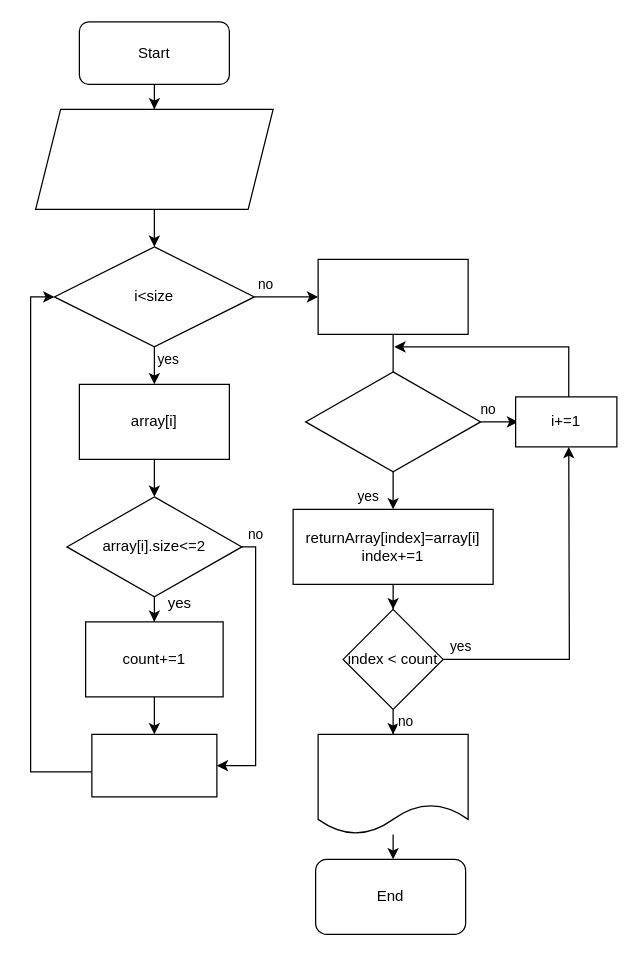
Some shapes in this 639 by 956 pixel diagram are drawn without their labels. The box of each missing label's shape, as (x1, y1, x2, y2) in pixels:
array[i].size<=3: (304, 371, 481, 472)
i+1: (91, 733, 217, 797)
return returnArray: (317, 733, 468, 834)
returnArray[count] i=0: (317, 258, 468, 334)
size 6 array[size] i=0 index = 0 count=0: (34, 108, 273, 209)
